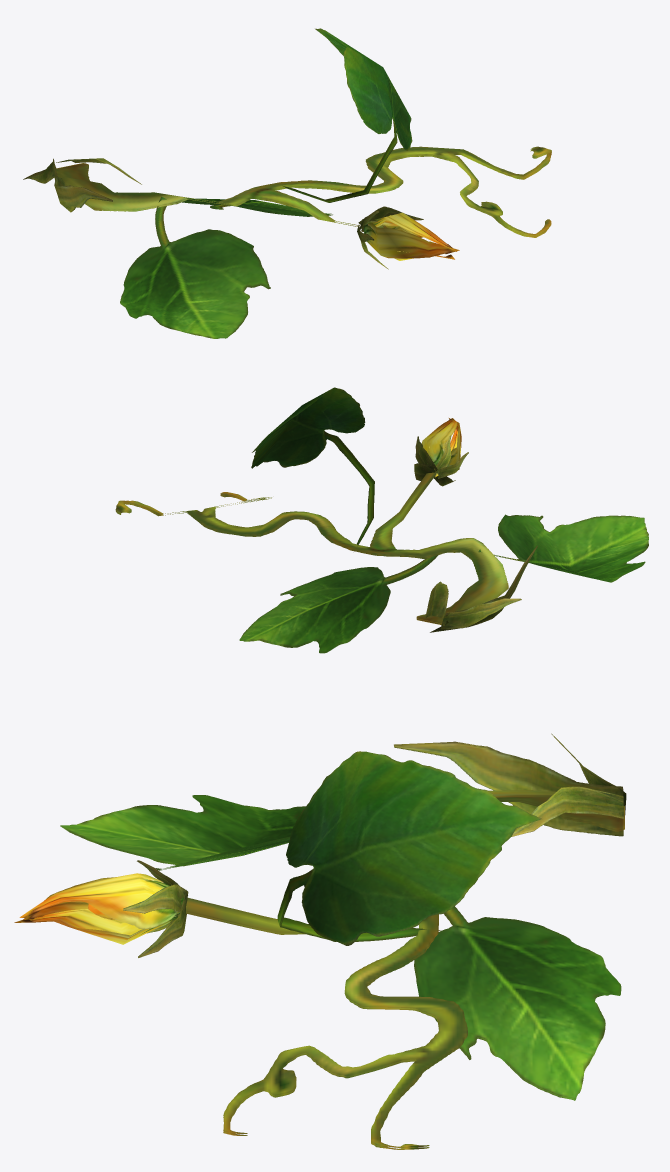
The model's file is Squash1.obj.
3 views of the same model, one above another, from view 1: azimuth 30°, elevation 25°; view 2: azimuth 150°, elevation 25°; view 3: azimuth 270°, elevation 25° (orthographic). The views are drawn at different scales.
Visible parts, largest first — view 1: z; view 2: z; view 3: z.
Part boxes in pixels (x1,y1,x2,y2): z: (23, 28, 551, 338); z: (115, 387, 648, 653); z: (14, 733, 626, 1149).
Bounding box in the file's own units: 7.79 × 3.43 × 5.37.
